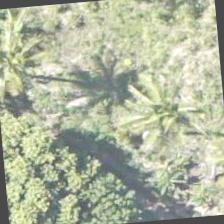Kelapa_Sawit: (100, 66, 198, 164), (0, 5, 58, 93)
